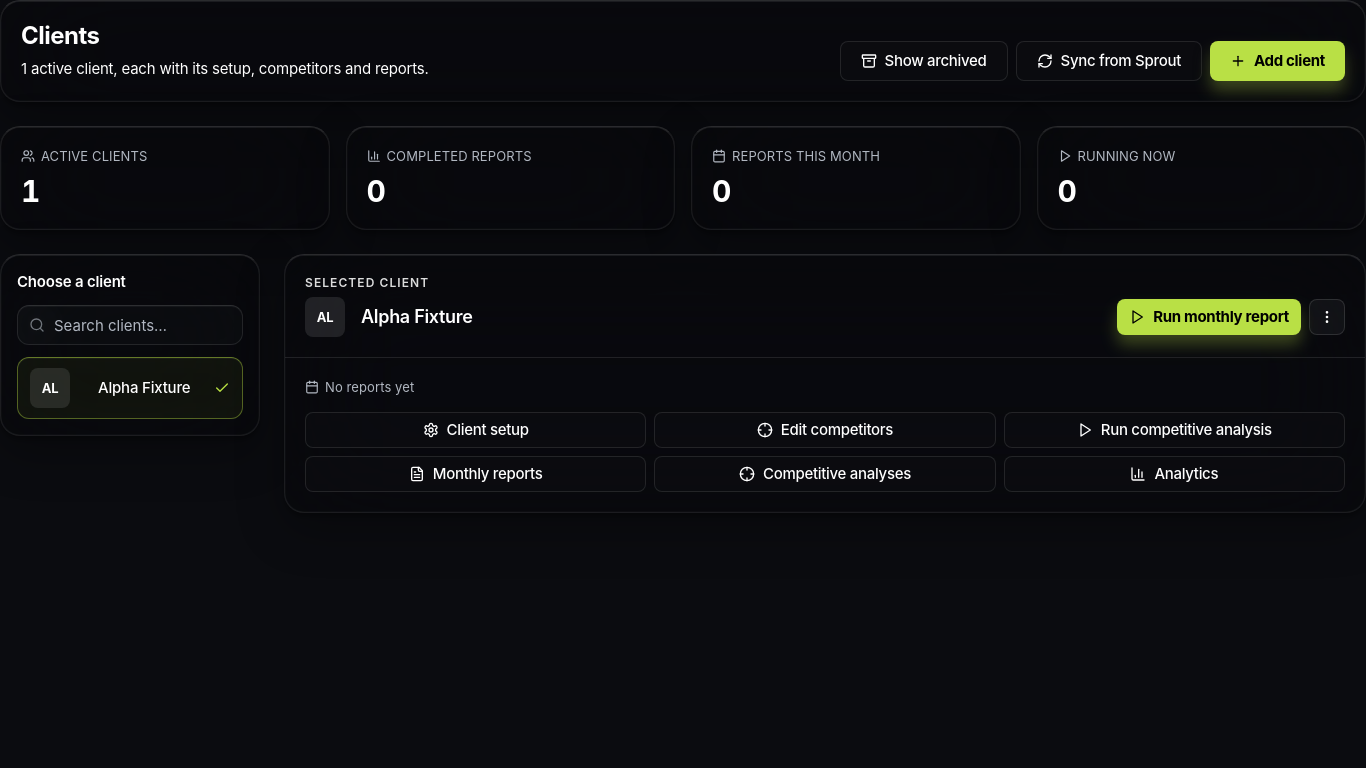
it: when the run is over › names what a run added before it stopped
What coordinates should you click on to do the following:
click the button "Sync from Sprout"
I would click on:
 (1109, 61)
Its box is [1016, 41, 1202, 81].
Wait 10020 ms
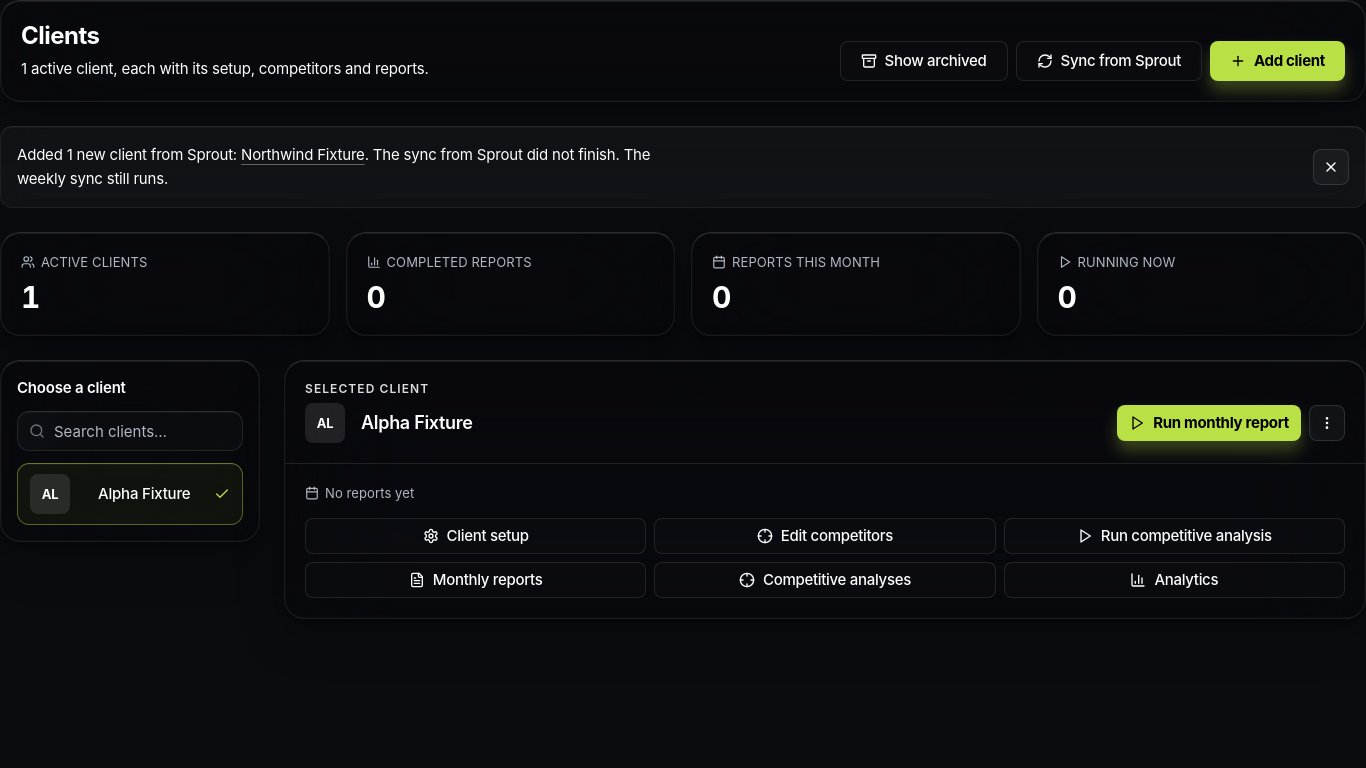
Expected: the message shows "Added 1 new client from Sprout: Northwind Fixture. The sync from Sprout did not finish. The weekly sync still runs.", [0, 126, 1365, 208]
